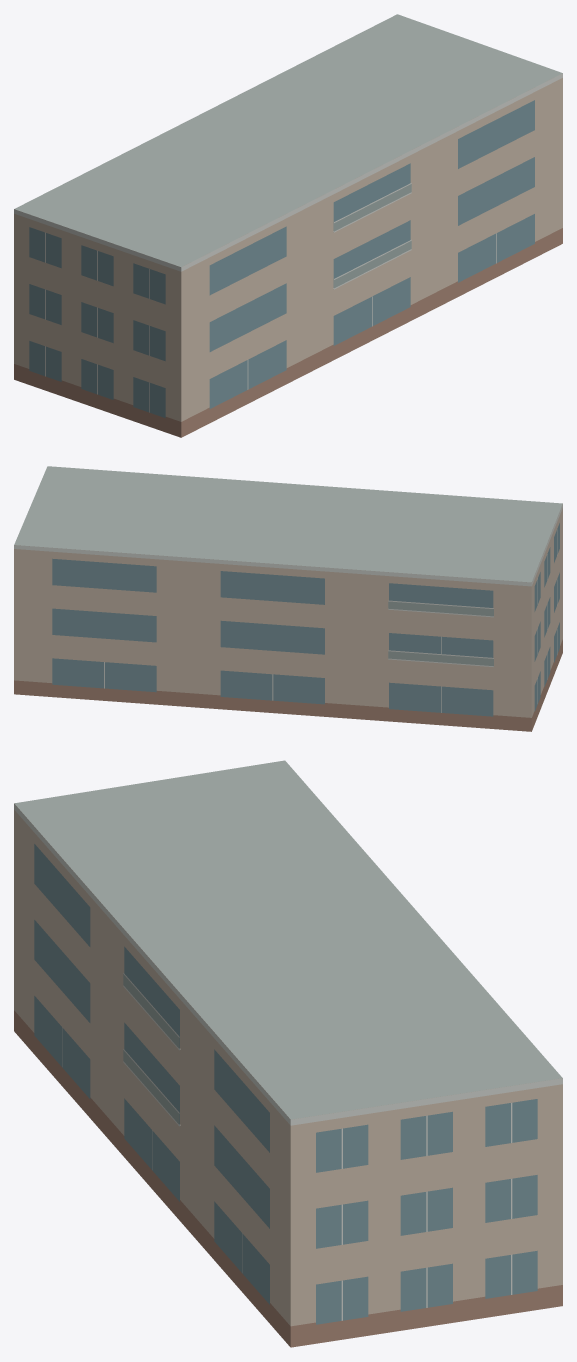
Rendered from survey-upis-33008156.glb.
The picture shows the model from 3 angles, top to bottom: view 1: azimuth 30°, elevation 25°; view 2: azimuth 150°, elevation 25°; view 3: azimuth 270°, elevation 25°; orthographic projection. The views are drawn at different scales.
Visible parts, largest first — view 1: survey-upis-33008156.tmp; view 2: survey-upis-33008156.tmp; view 3: survey-upis-33008156.tmp.
Boxes of the visible parts, box(x1,y1,x2,y2) form: survey-upis-33008156.tmp: box(14, 14, 562, 437); survey-upis-33008156.tmp: box(14, 466, 562, 731); survey-upis-33008156.tmp: box(14, 760, 562, 1347).
Bounding box in the file's own units: 30.94 × 9.15 × 19.98.
